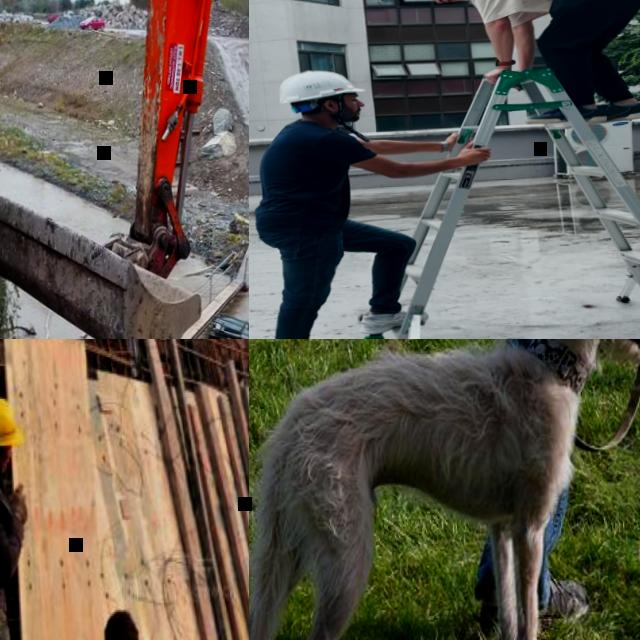Hardhat: (276, 68, 363, 104), (0, 392, 18, 448)
NO-Hardhat: (100, 606, 137, 640)
NO-Mask: (340, 100, 363, 123), (0, 449, 7, 471)
NO-Safety Vest: (249, 117, 351, 244)
Person: (249, 65, 492, 339), (461, 339, 640, 640), (393, 0, 640, 132), (0, 384, 46, 640)
vehicle: (0, 0, 235, 339), (167, 192, 249, 339), (47, 7, 73, 23), (78, 15, 104, 31)
